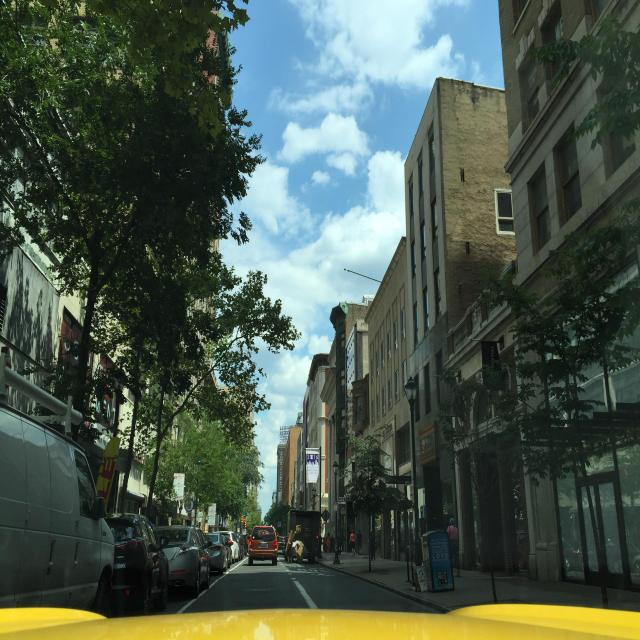Good: (241, 581, 275, 598)
